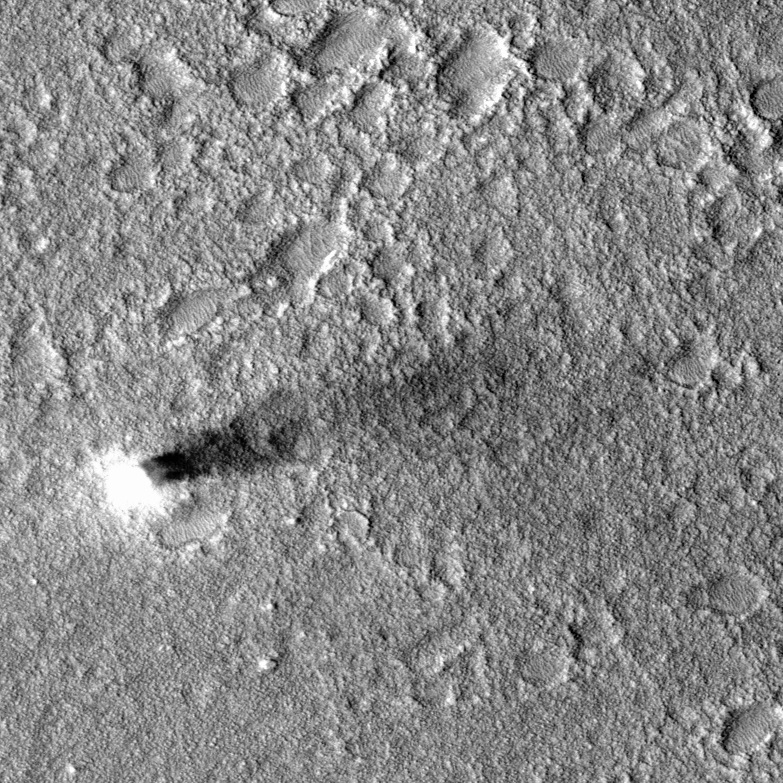dust_devil: (85, 386, 323, 532)
